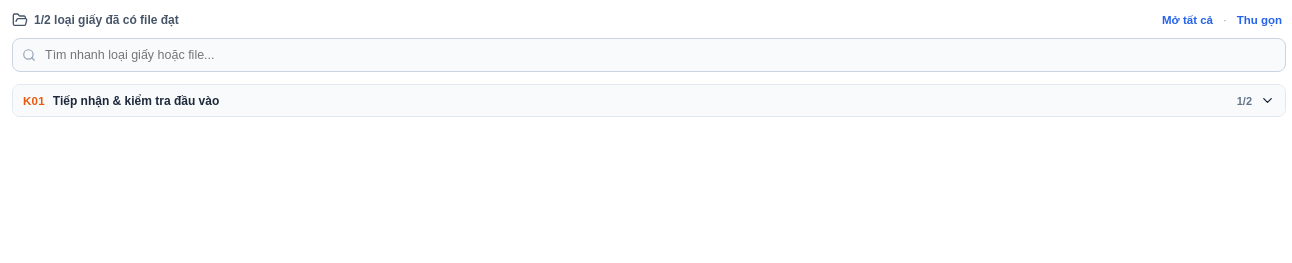
Test case: ChecklistCabinetTree › hỗ trợ mở tất cả và thu gọn tất cả
The image size is (1292, 263).
Click the button "Mở tất cả": [1188, 20] box [1158,12,1217,28]
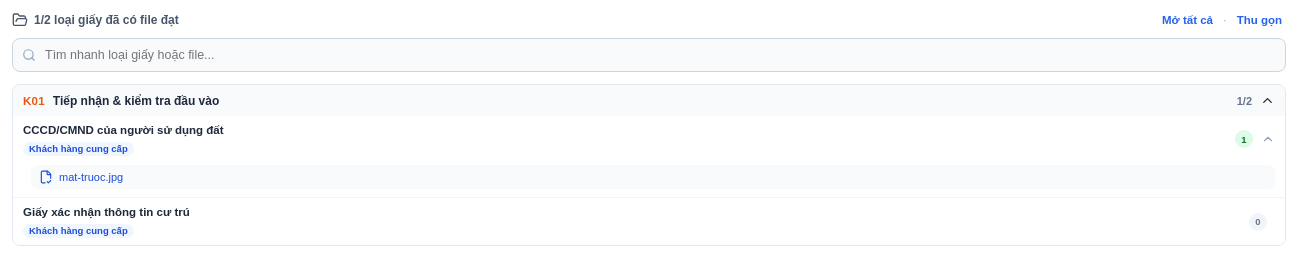
Expected: the text "CCCD/CMND của người sử dụng đất" is shown, [23,124,224,136]
Expected: the button "mat-truoc.jpg" is shown, [31,165,1275,189]
Click the button "Thu gọn": [1259, 20] box [1233,12,1286,28]
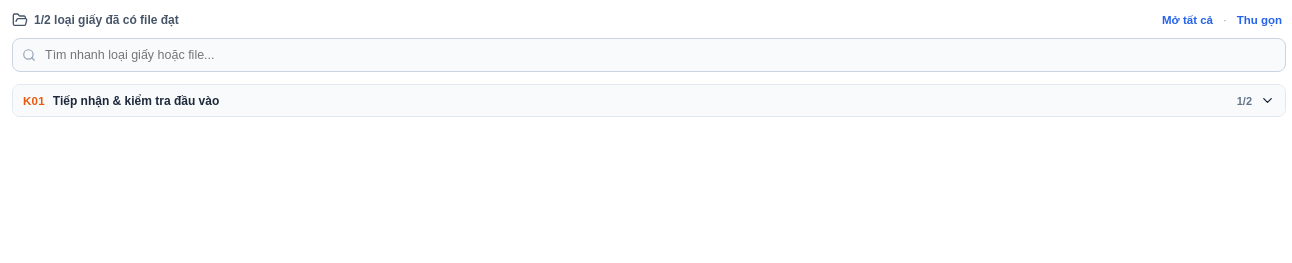
Expected: the button "CCCD/CMND của người sử dụng đất" is gone
